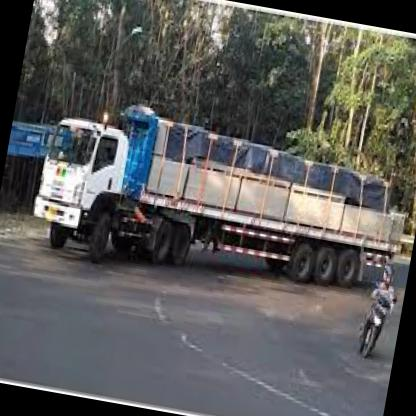truck: (26, 111, 138, 270)
